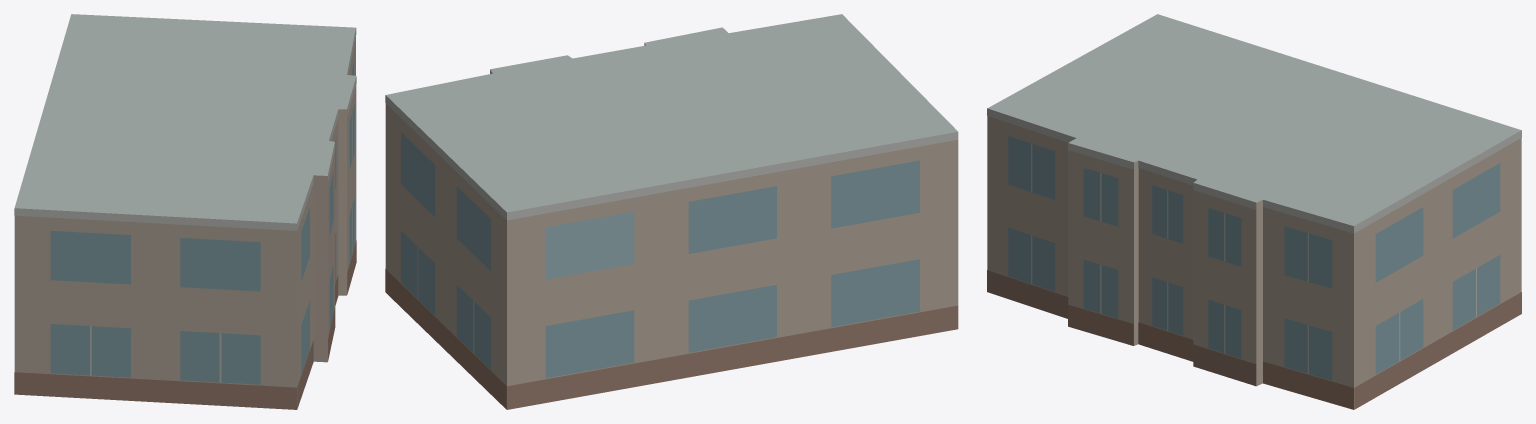
Rendered from survey-upis-32613213.glb.
The picture shows the model from 3 angles, left to right: view 1: azimuth 30°, elevation 25°; view 2: azimuth 150°, elevation 25°; view 3: azimuth 270°, elevation 25°; orthographic projection. The views are drawn at different scales.
Visible parts, largest first — view 1: survey-upis-32613213.tmp; view 2: survey-upis-32613213.tmp; view 3: survey-upis-32613213.tmp.
Part boxes in pixels (bbox=[...]): survey-upis-32613213.tmp: bbox=[14, 14, 356, 409]; survey-upis-32613213.tmp: bbox=[385, 14, 958, 409]; survey-upis-32613213.tmp: bbox=[987, 14, 1521, 409].
Size of the model in its own units: 15.12 by 6.1 by 16.1.
